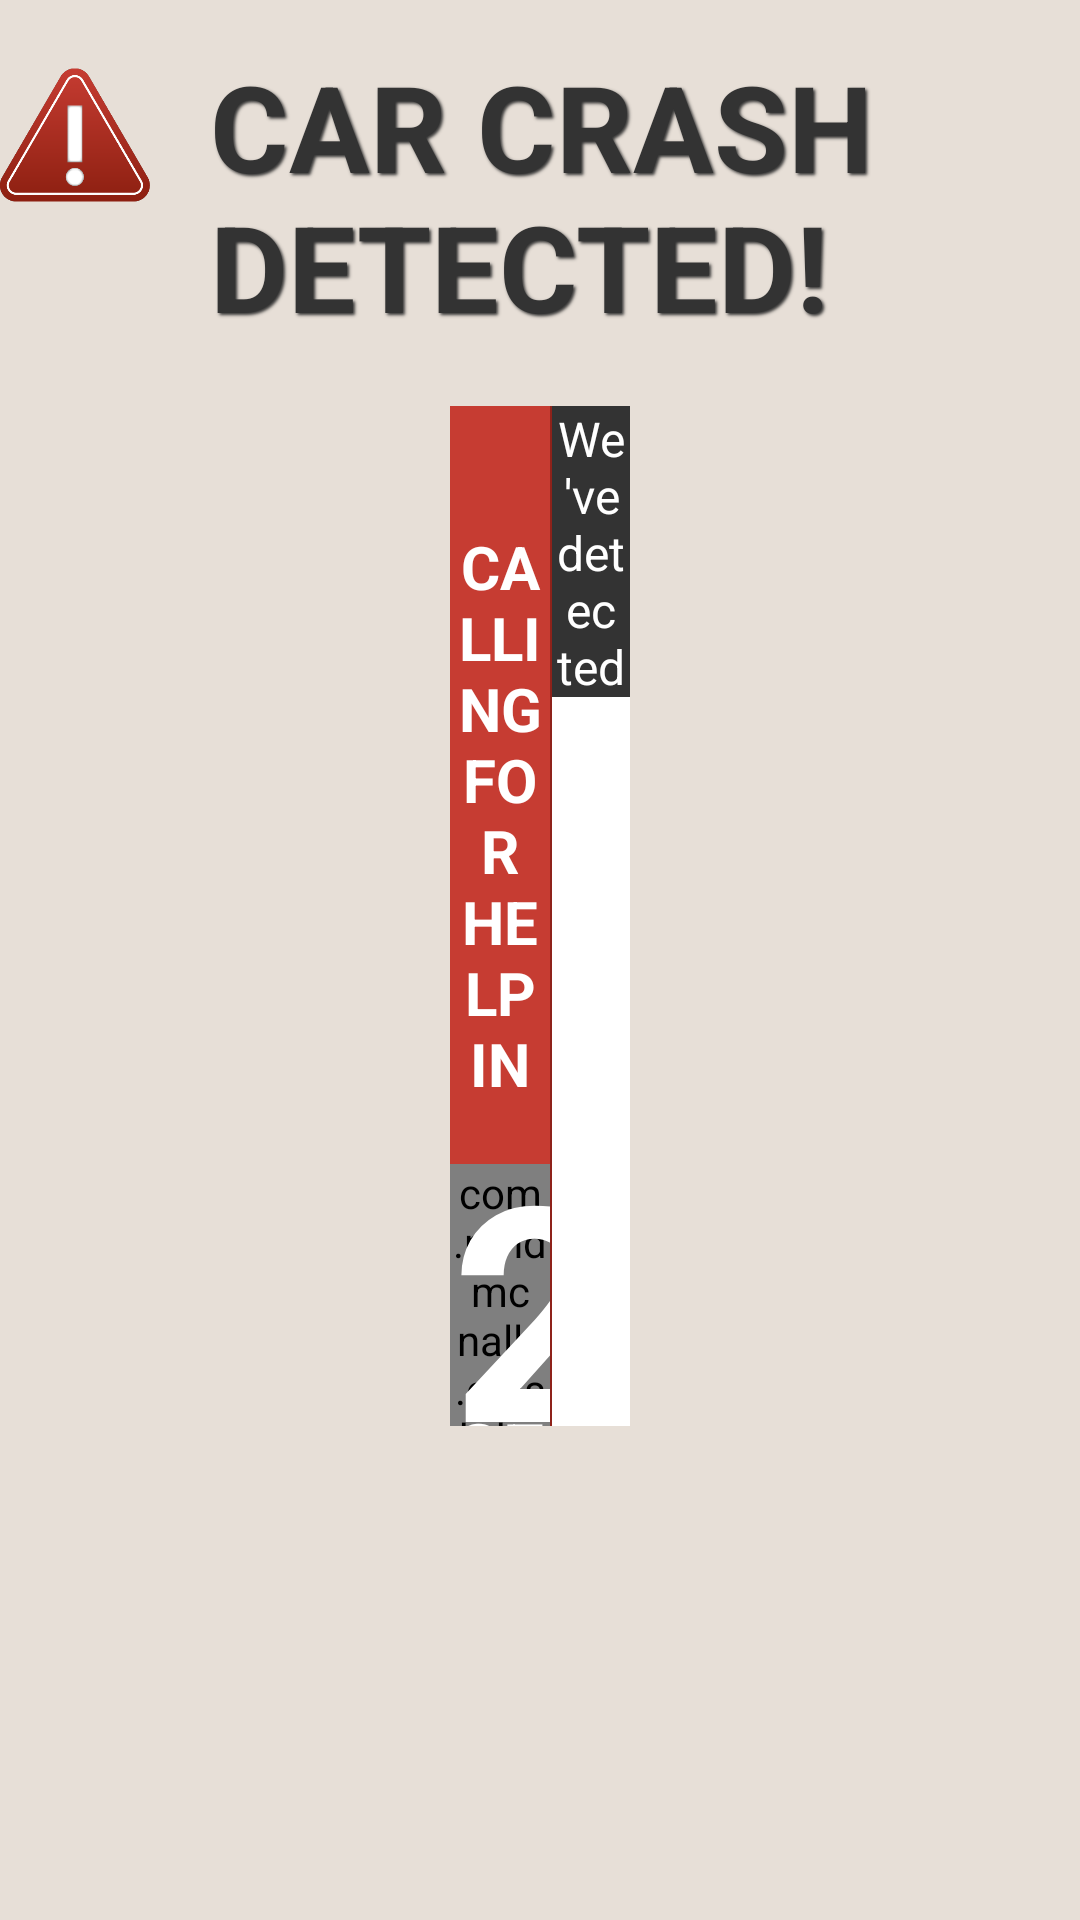

Locate icon controls on the screen. Image size 1080*1920, boxes as (x1, y1, x2, y2).
alert: (0, 68, 150, 202)
